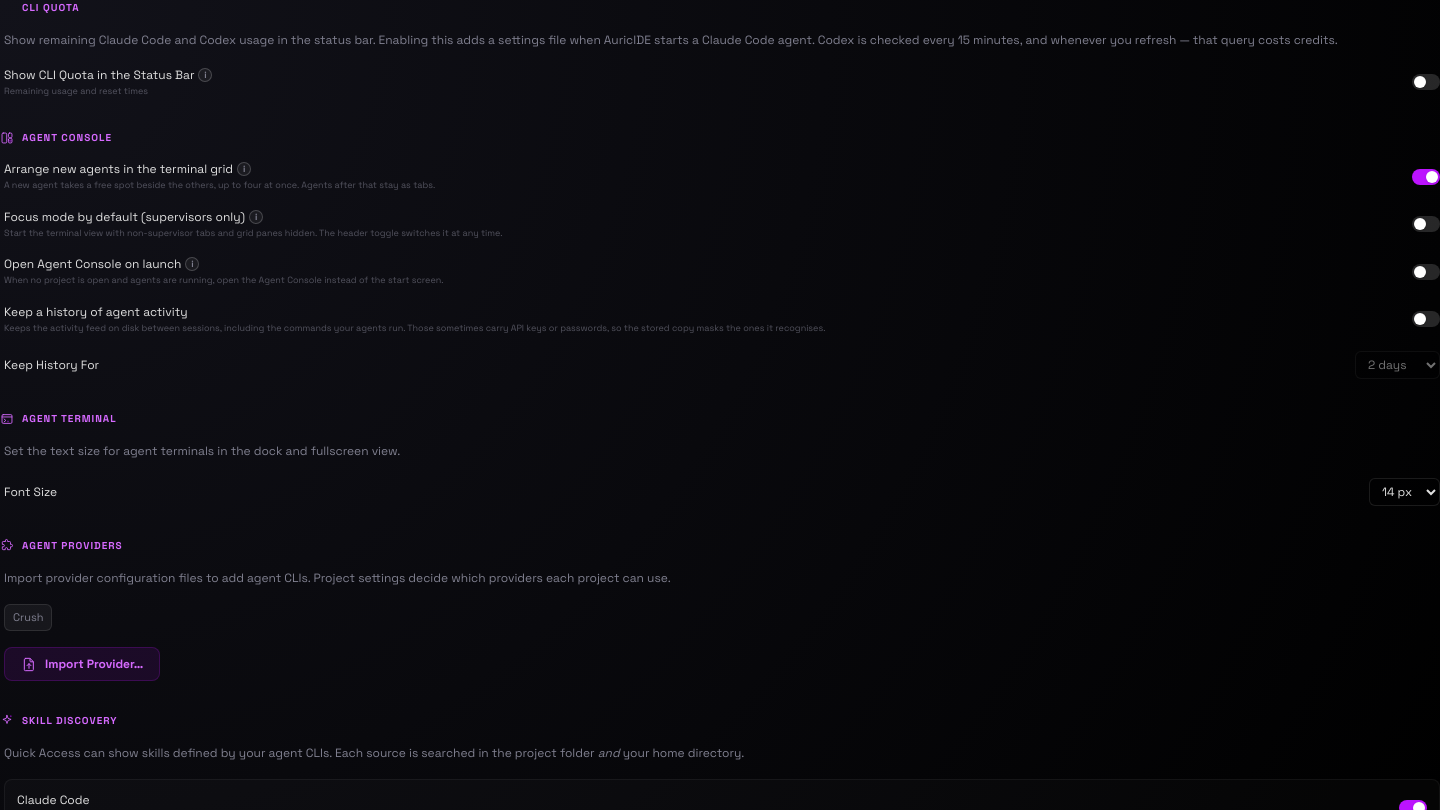
it: AgentContent — CLI quota › offers a refresh button only after the chip is switched on
Click the checkbox with test id "cli-usage-limits-toggle": click(99, 74) [4,66,1439,98]
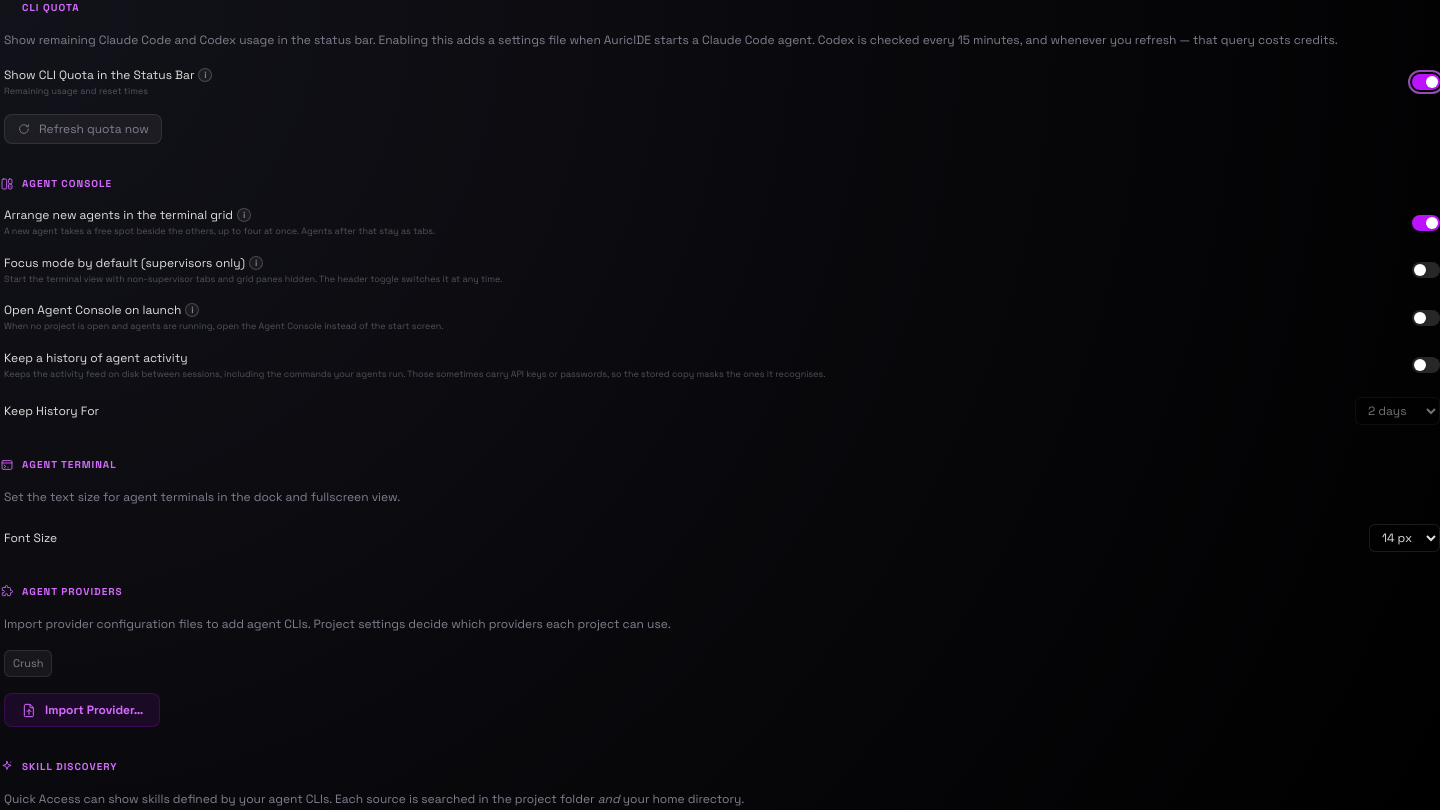
Expected: the button with test id "cli-usage-limits-refresh" is shown, [4,114,162,144]
